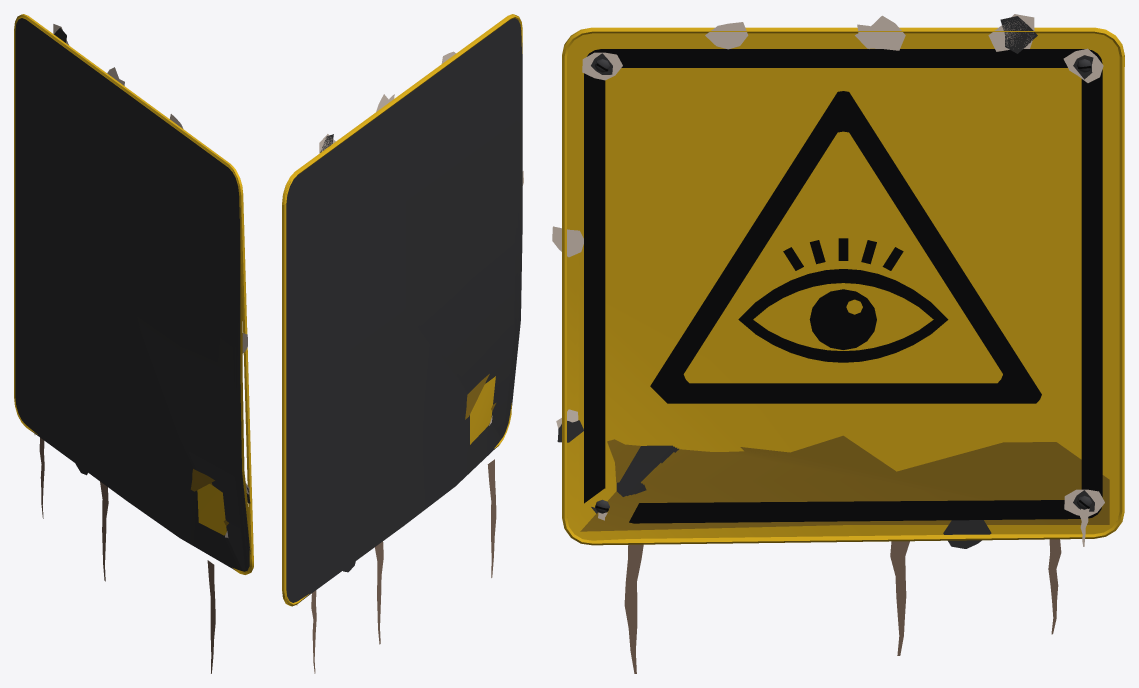
File: sign_warning.glb
3 renders of one model, left to right at view 1: azimuth 30°, elevation 25°; view 2: azimuth 150°, elevation 25°; view 3: azimuth 270°, elevation 25°, orthographic. The views are drawn at different scales.
Parts seen in each view (by area): view 1: teil.001, teil, teil.007, teil.004; view 2: teil.001, teil, teil.007, teil.004, teil.003; view 3: teil, teil.002, teil.003, teil.004, teil.001, teil.007.
Part boxes in pixels (x1,y1,x2,y2): teil.001: (15,15,250,571); teil: (14,14,253,574); teil.007: (39,437,215,673); teil.004: (34,24,249,537); teil.001: (286,15,522,605); teil: (282,14,522,606); teil.007: (311,459,496,673); teil.004: (296,51,523,605); teil.003: (465,374,495,419); teil: (562,27,1124,545); teil.002: (584,49,1102,523); teil.003: (580,435,1109,531); teil.004: (552,14,1104,546); teil.001: (557,16,1094,548); teil.007: (624,539,1061,673).
Bounding box in the file's own units: 0.0162 × 0.5211 × 0.4087.
